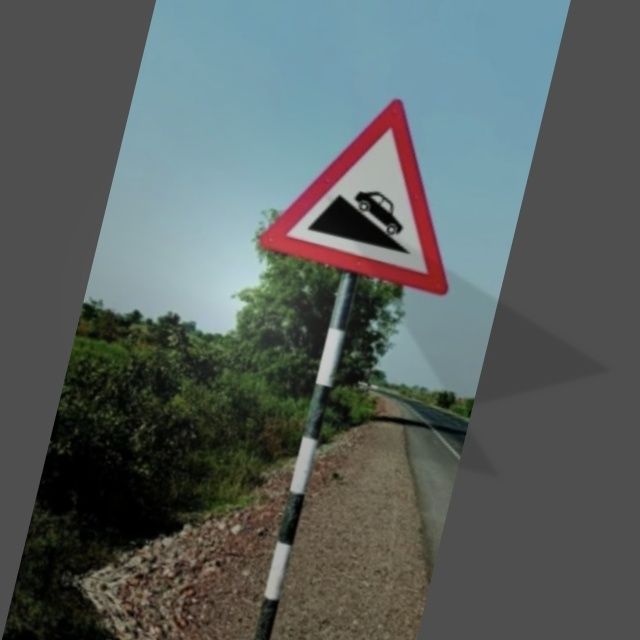Steep_Descent: (260, 76, 488, 300)
